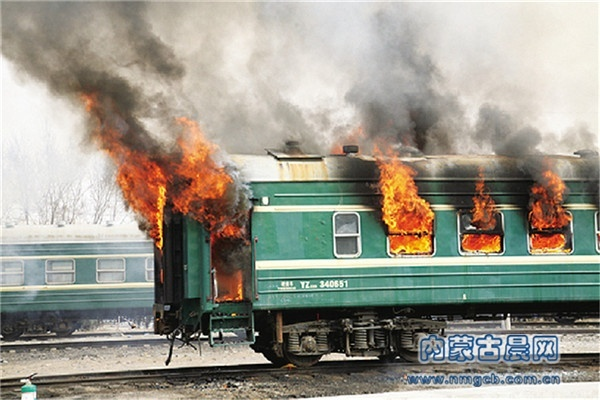fire: (88, 110, 244, 246), (363, 136, 435, 259), (527, 168, 570, 249), (464, 168, 501, 256), (215, 268, 243, 301)
